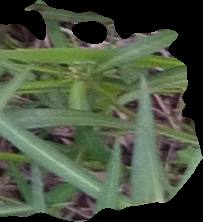grass: (1, 1, 202, 221)
